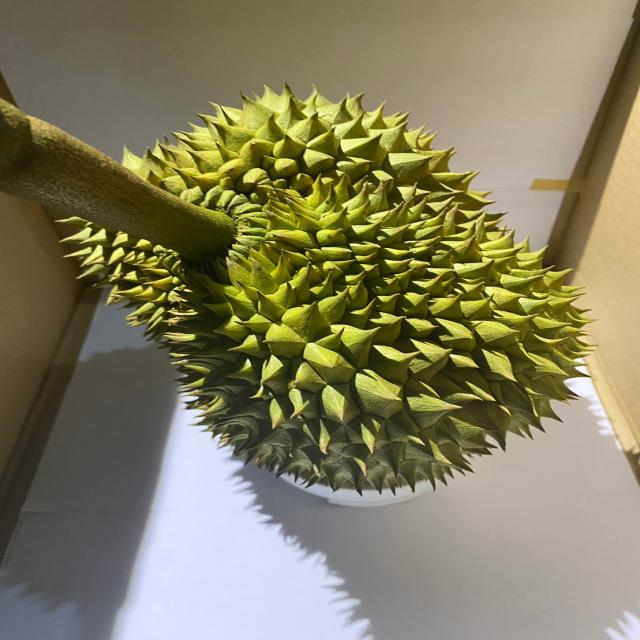immature: (51, 82, 602, 497)
